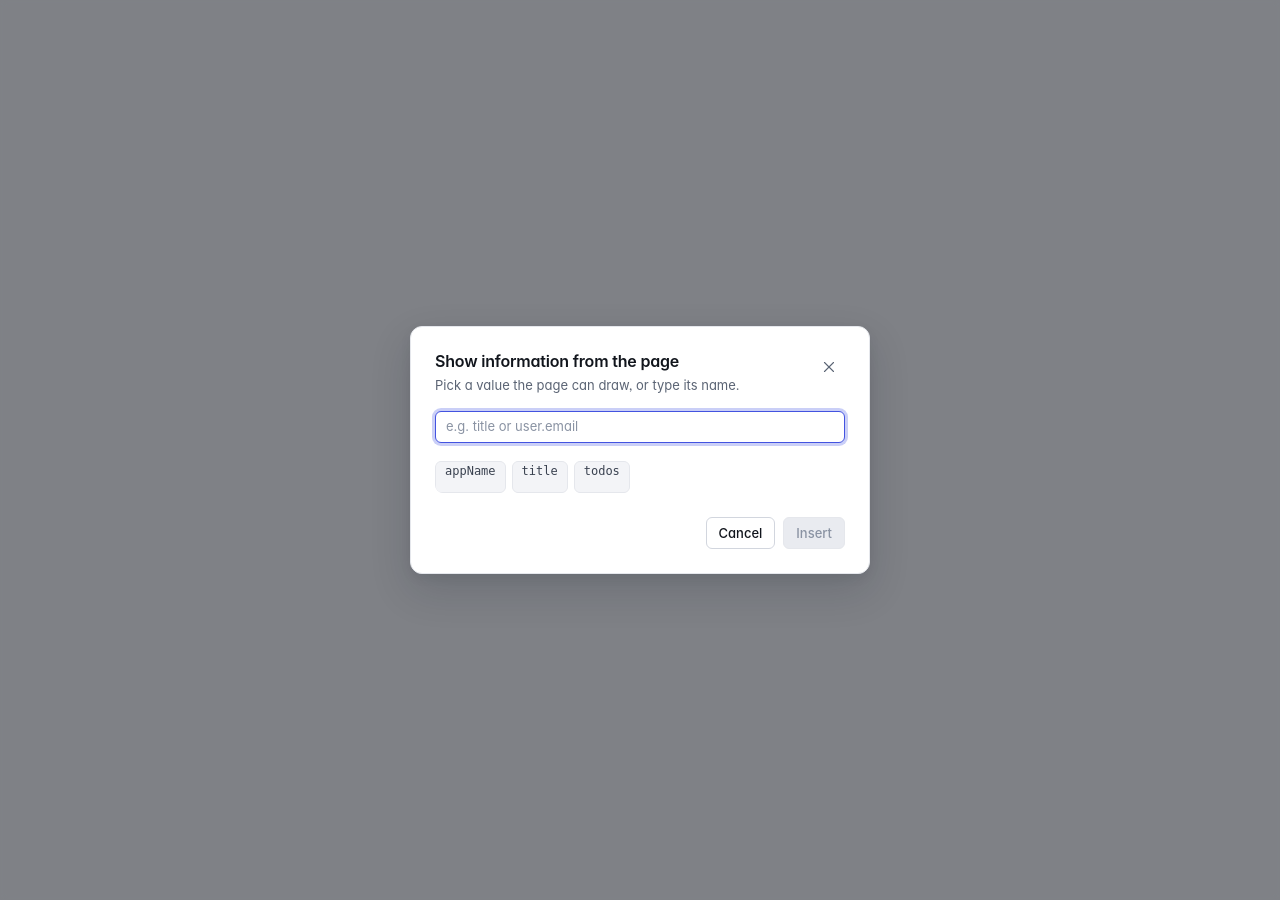
Scenario: Insert information from the page › rejects a name that is not a valid value
Type "not valid!" into the field. click: (640, 427)
box: [435,411,845,443]
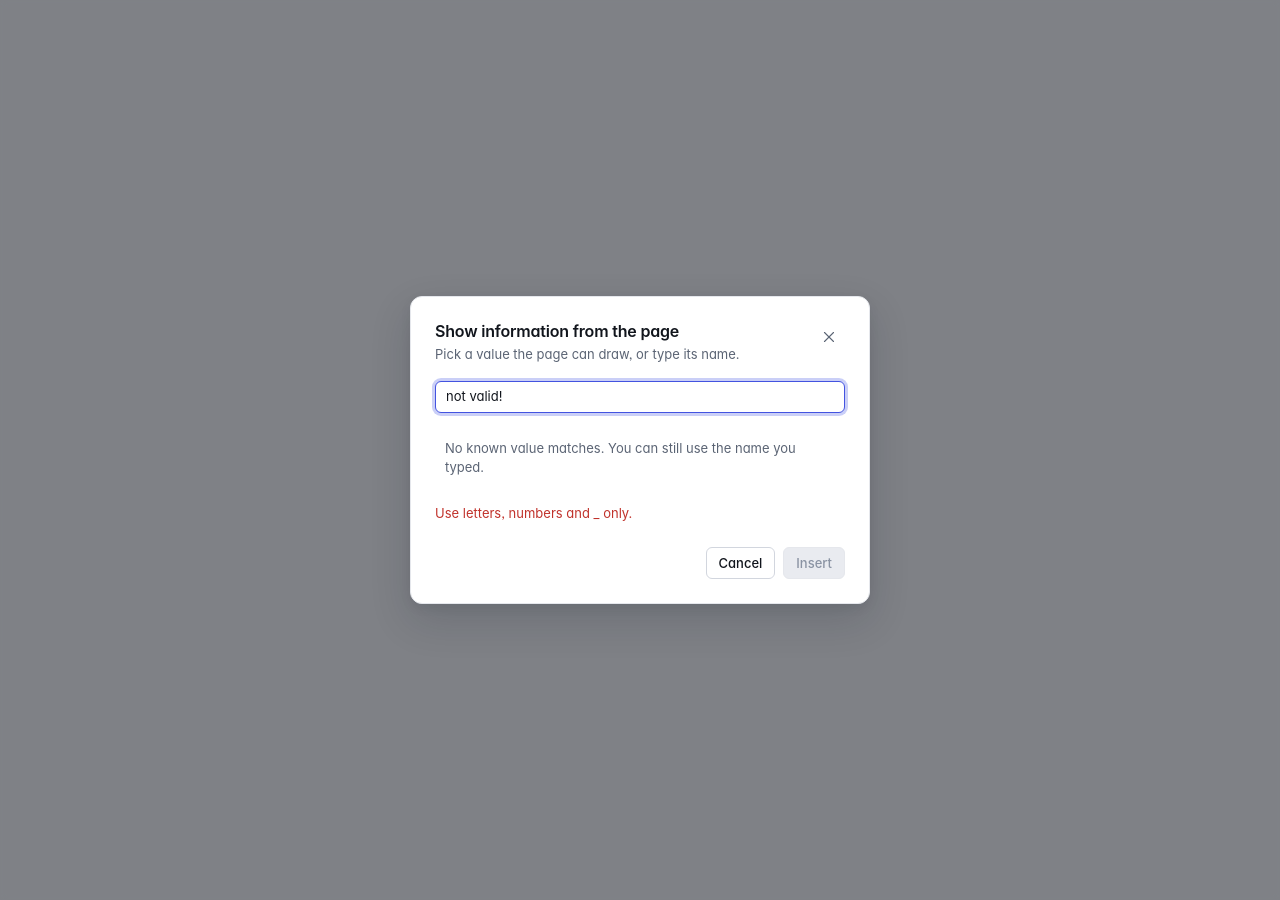
Expected: the button "Insert" is disabled, [783,547,845,579]
Result: the message "Use letters, numbers and _ only." is shown at [435,505,632,521]
